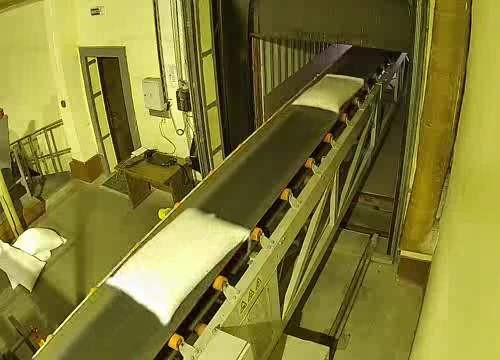bag: (103, 205, 253, 325), (288, 71, 364, 115)
